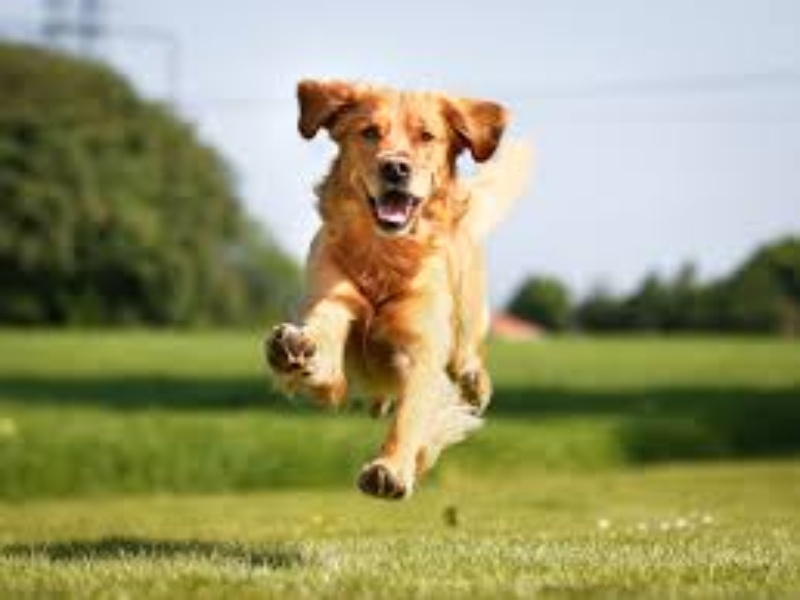dog: (264, 75, 494, 509)
